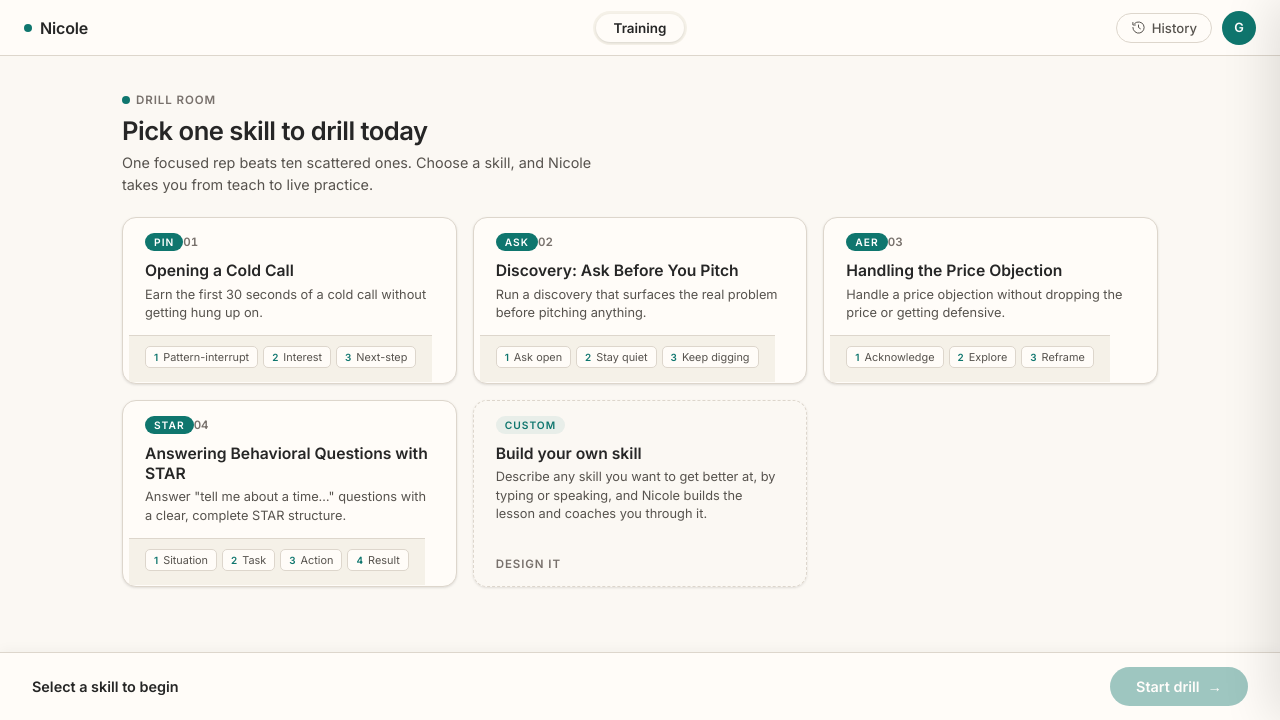
it: TrainingScreen › shows where you are: a Step N of M header + plain phase labels
Click the button with test id "lesson-card" that starts with "PIN" at (289, 300), box [122, 217, 457, 384]
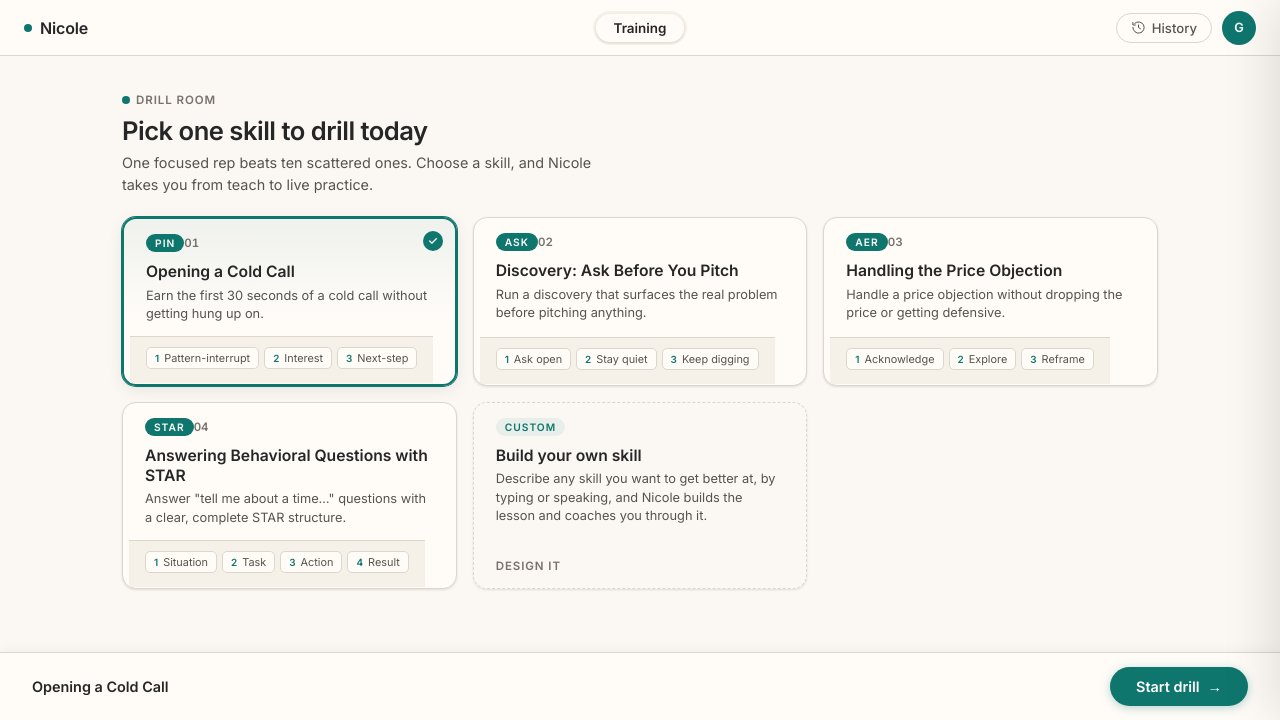
Click the button with test id "start-training-button" at (1179, 686), box [1110, 667, 1248, 706]
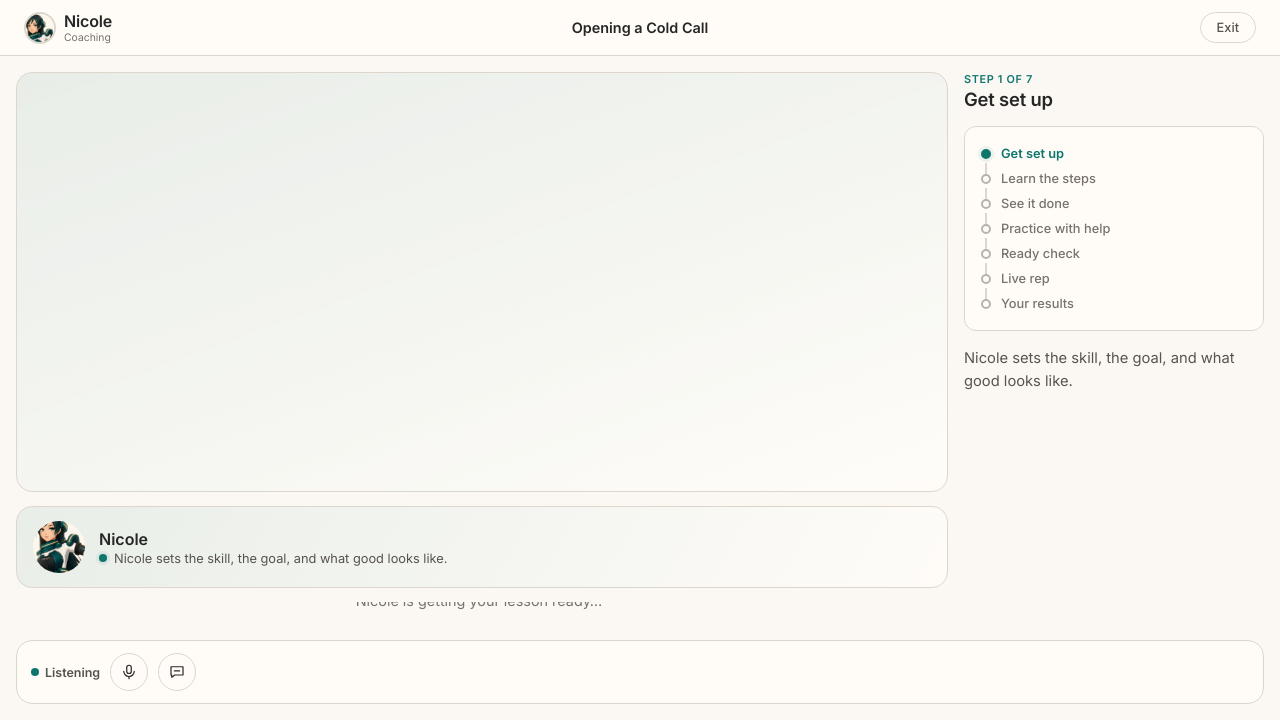
Expected: the element with test id "phase-now" shows "Step 1 of 7", [964, 72, 1053, 110]
